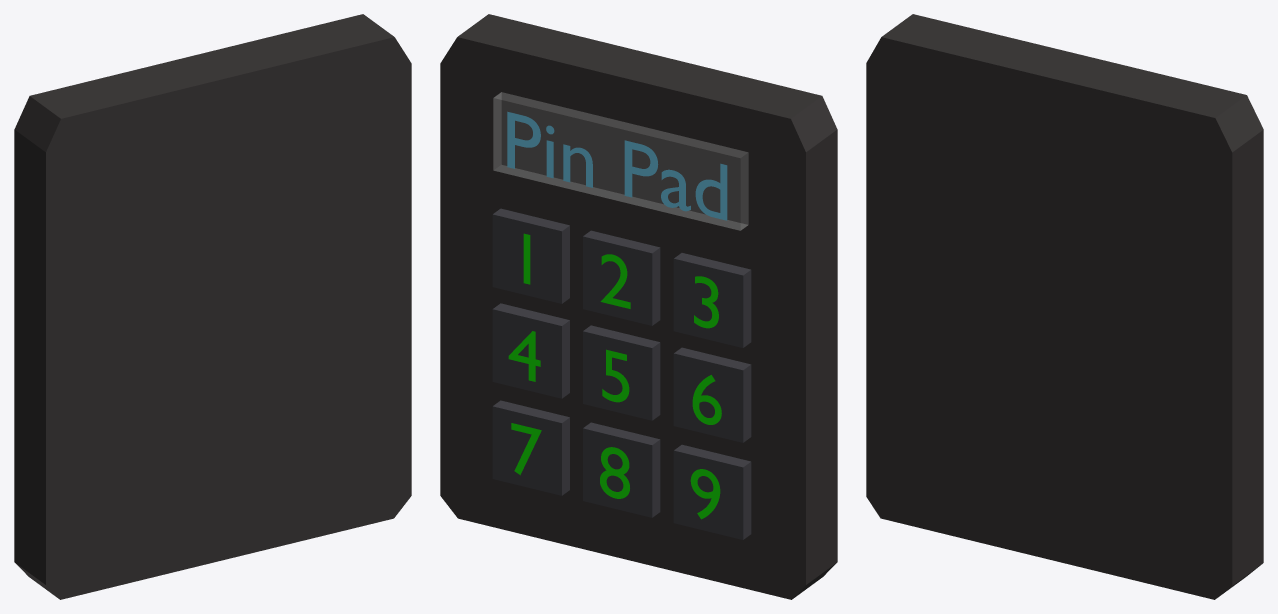
Rendered from pinPad.glb.
3 renders of one model, left to right at view 1: azimuth 30°, elevation 25°; view 2: azimuth 150°, elevation 25°; view 3: azimuth 330°, elevation 25°, orthographic.
Visible parts, largest first — view 1: PinPad; view 2: PinPad, Buttons, Screen, ScreenText, 8, 9, 6, 4, 2, 5, 3, 7; view 3: PinPad.
Boxes of the visible parts, <box> form: PinPad: <box>14,14,411,599</box>; PinPad: <box>440,14,837,599</box>; Buttons: <box>492,208,751,539</box>; Screen: <box>493,92,748,230</box>; ScreenText: <box>507,111,727,220</box>; 8: <box>600,447,629,498</box>; 9: <box>690,469,720,519</box>; 6: <box>692,375,721,424</box>; 4: <box>508,331,540,381</box>; 2: <box>600,254,630,308</box>; 5: <box>602,349,629,402</box>; 3: <box>694,276,718,328</box>; 7: <box>511,423,541,475</box>; PinPad: <box>866,14,1263,599</box>.
Size of the model in its own units: 1.63 by 2.05 by 0.3083.
